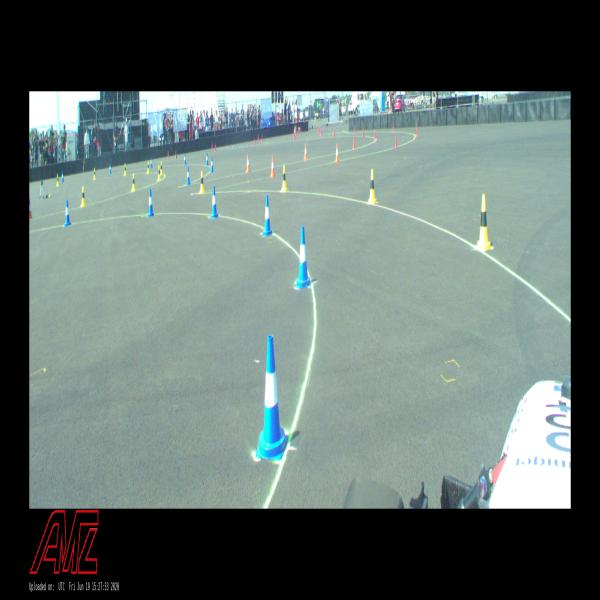blue_cone: (255, 335, 288, 462), (295, 226, 311, 290), (262, 194, 273, 236), (211, 185, 218, 218), (64, 199, 71, 226), (148, 189, 154, 216), (186, 167, 191, 186), (210, 157, 214, 172), (205, 153, 208, 166), (183, 153, 186, 165), (109, 163, 112, 174), (150, 157, 153, 168), (62, 171, 64, 182)
orange_cone: (270, 156, 275, 178), (334, 144, 340, 162), (29, 198, 33, 220), (246, 154, 250, 173), (304, 144, 308, 161)
unknown_cone: (395, 134, 398, 148), (373, 129, 376, 141), (415, 125, 418, 137), (353, 136, 355, 150), (362, 126, 364, 136), (353, 124, 355, 134), (175, 151, 177, 159), (320, 128, 322, 136), (294, 133, 296, 141), (167, 151, 169, 157), (393, 122, 394, 133), (334, 129, 335, 138), (215, 143, 216, 152), (254, 138, 255, 146), (262, 135, 263, 143), (258, 134, 259, 142), (212, 143, 213, 150)
yellow_cone: (476, 194, 490, 250), (368, 169, 376, 204), (281, 164, 287, 191), (199, 170, 205, 194), (81, 185, 86, 207), (157, 164, 162, 181), (132, 173, 136, 192), (159, 161, 163, 174), (123, 163, 127, 175), (146, 160, 149, 174), (93, 168, 96, 179), (57, 174, 59, 186)
